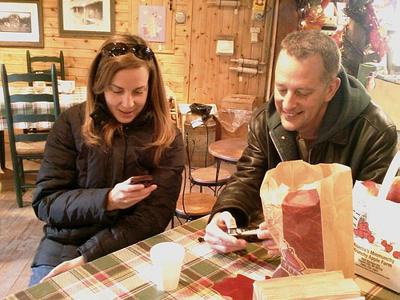person: (32, 33, 185, 288)
